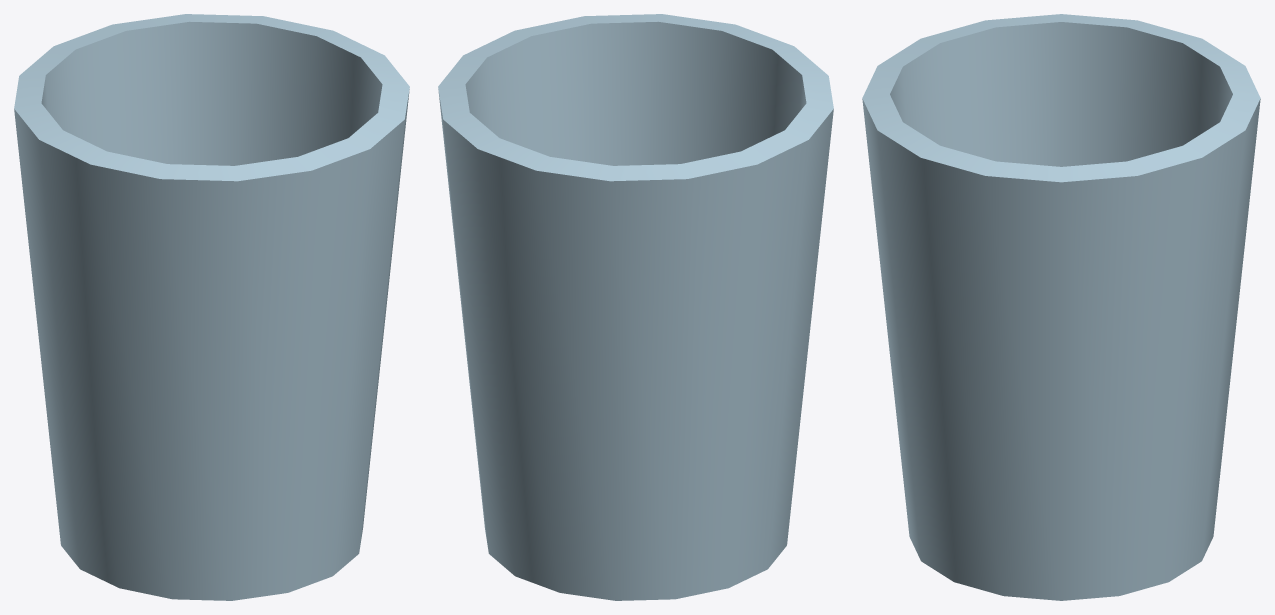
File: cup.fbx
The picture shows the model from 3 angles, left to right: view 1: azimuth 30°, elevation 25°; view 2: azimuth 150°, elevation 25°; view 3: azimuth 270°, elevation 25°; orthographic projection.
Parts seen in each view (by area): view 1: Cup; view 2: Cup; view 3: Cup.
Boxes of the visible parts, <box> form: Cup: <box>14,14,409,600</box>; Cup: <box>438,14,833,600</box>; Cup: <box>862,14,1260,600</box>.
Bounding box in the file's own units: 7.75 × 7.75 × 9.5.
